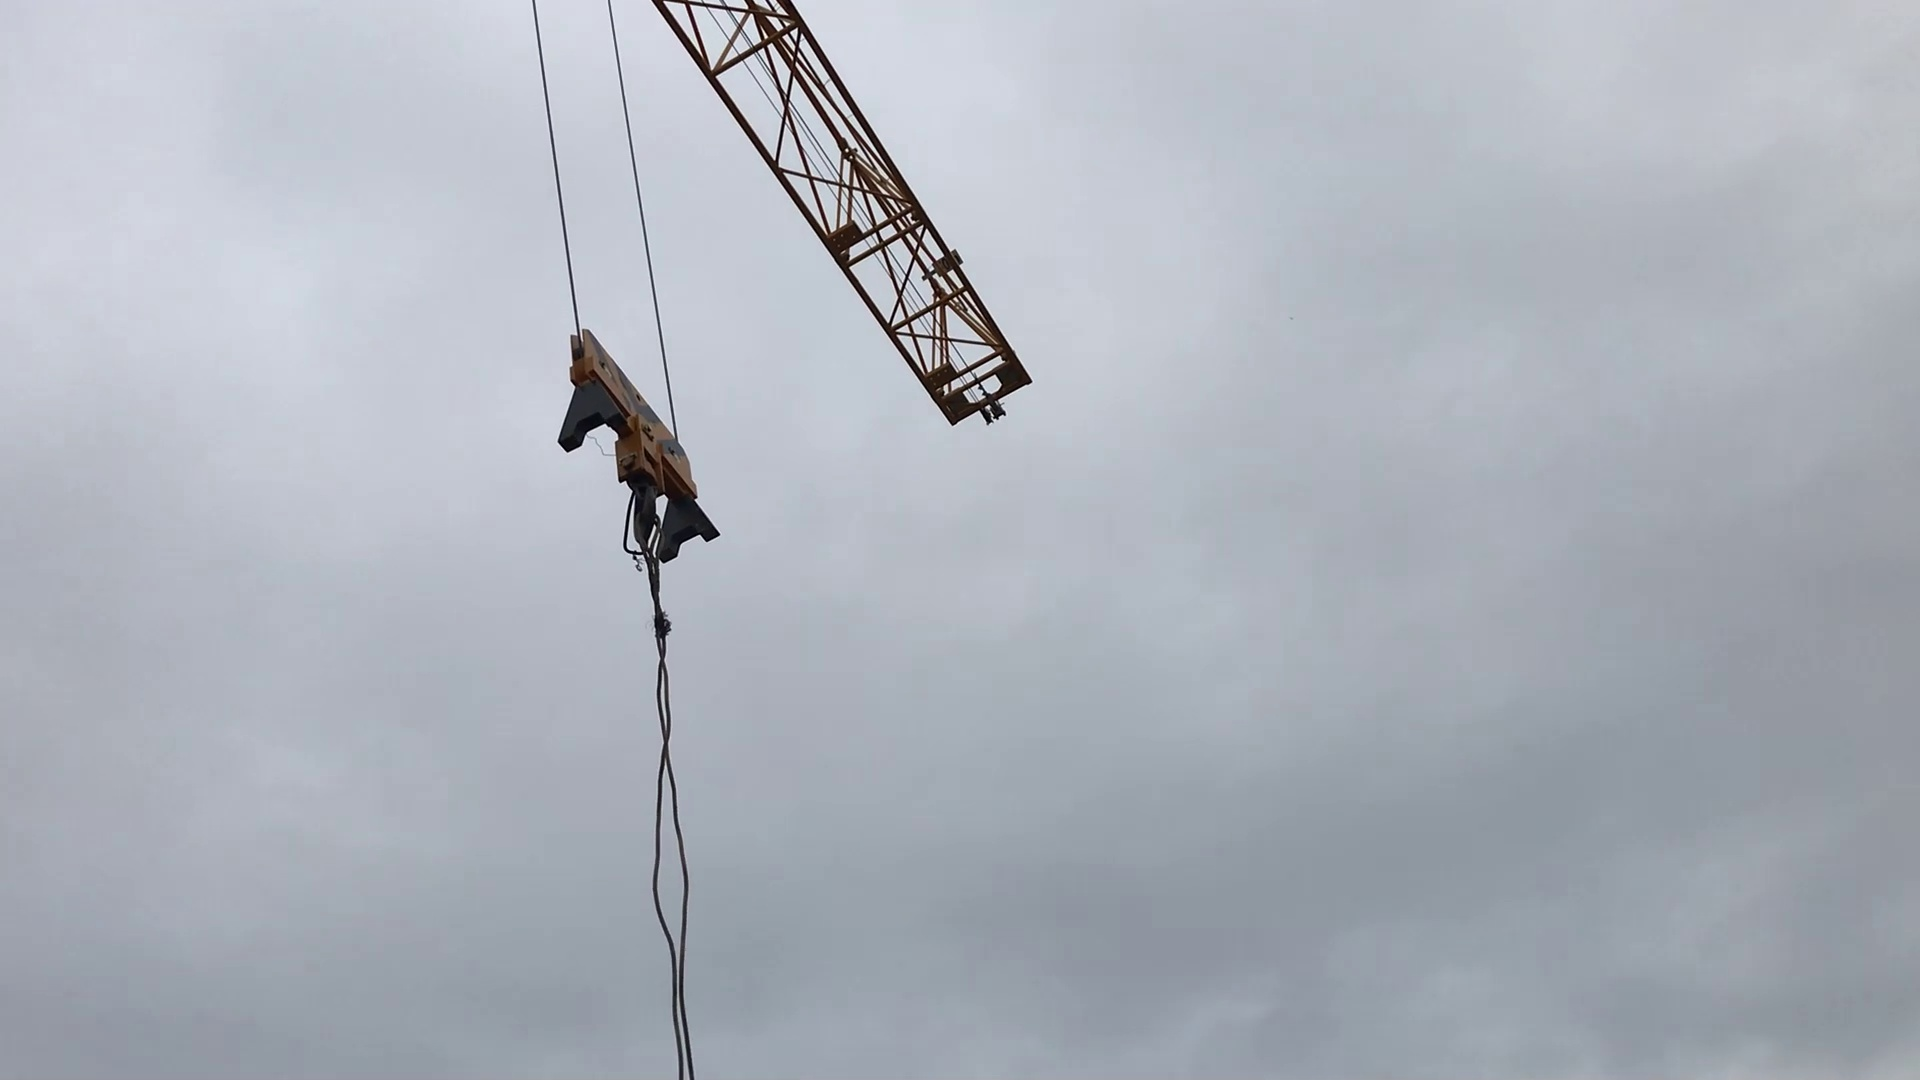hook: (547, 318, 746, 607)
